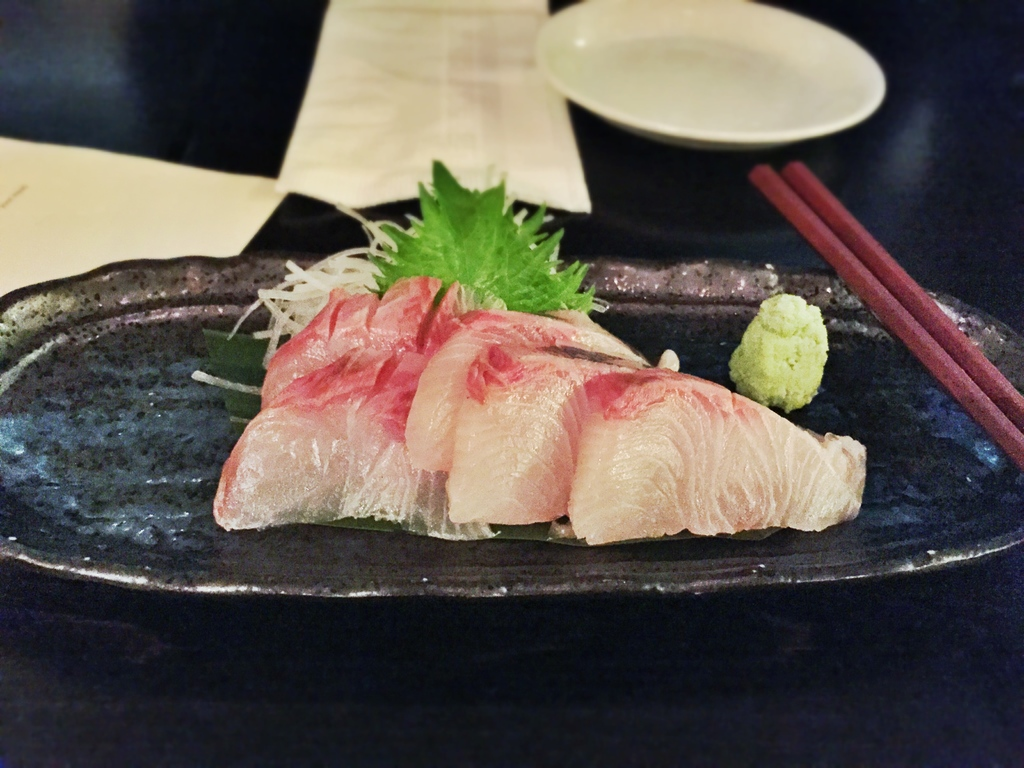sushi: (589, 377, 875, 547)
